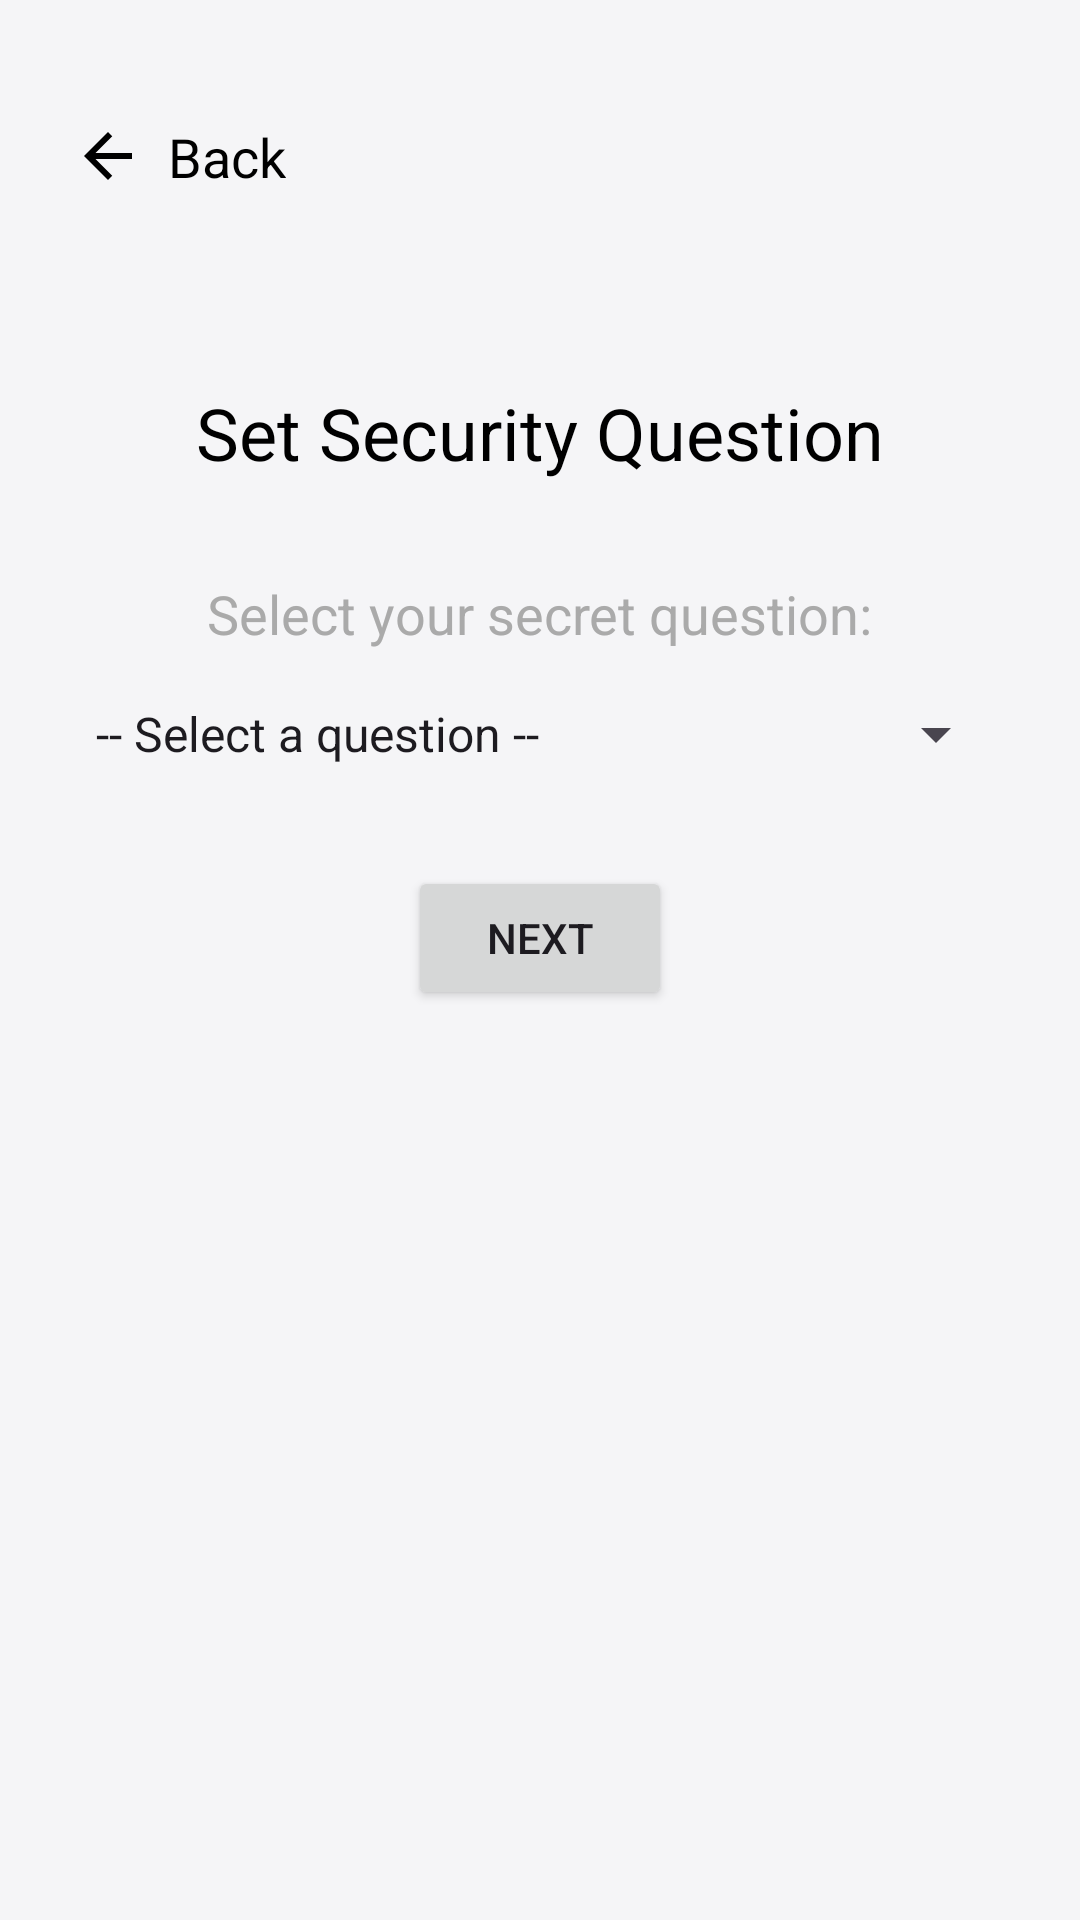

Icon click points for this 1080px×1920px phone screenshot, format (x,y):
Tombol kembali: (108,156)
